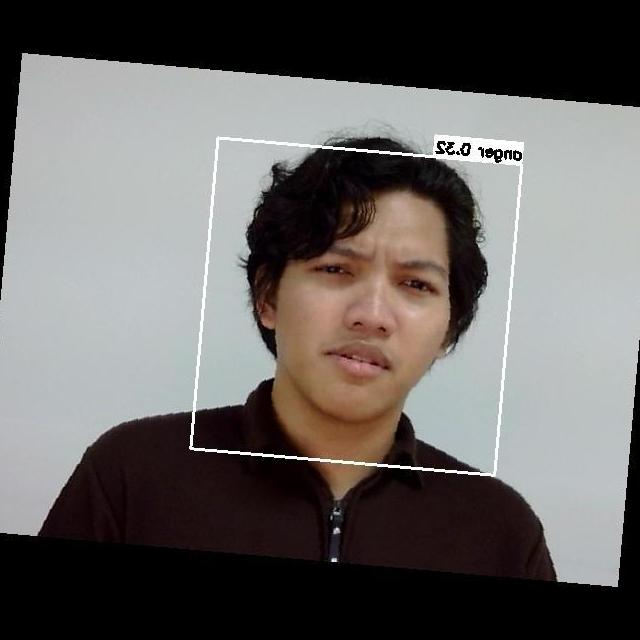Fear: (277, 223, 458, 399)
